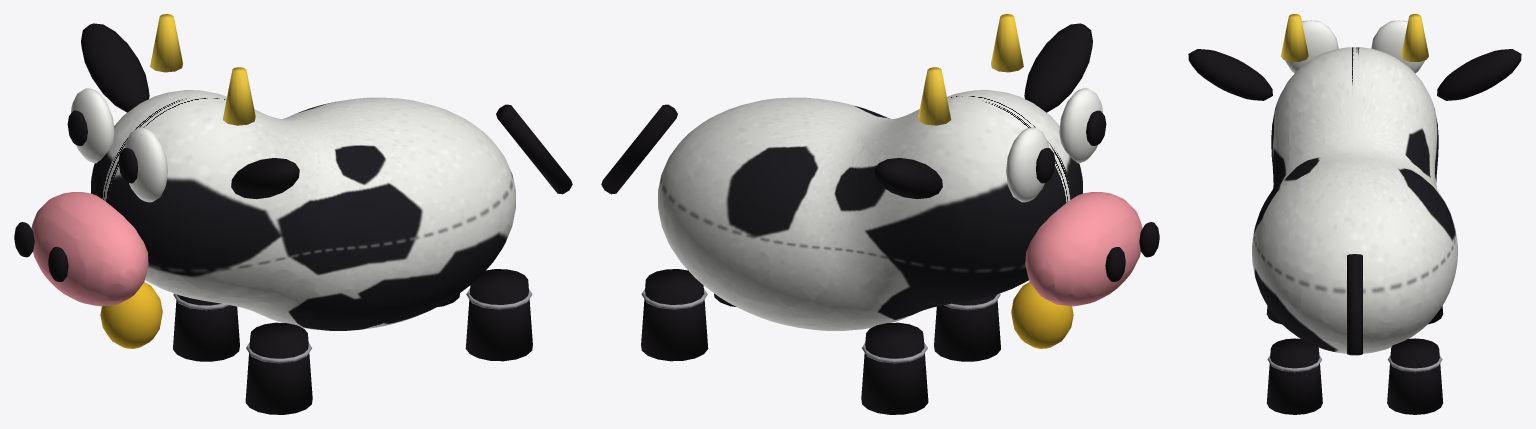
File: plush_cow.glb
3 views of the same model, side by side, from view 1: azimuth 30°, elevation 25°; view 2: azimuth 150°, elevation 25°; view 3: azimuth 270°, elevation 25° (orthographic). The views are drawn at different scales.
Parts seen in each view (by area): view 1: PLUSH_cow; view 2: PLUSH_cow; view 3: PLUSH_cow.
Boxes of the visible parts, x1,y1,x2,y2 form: PLUSH_cow: [14, 14, 572, 414]; PLUSH_cow: [601, 14, 1159, 414]; PLUSH_cow: [1188, 14, 1521, 414].
Bounding box in the file's own units: 0.2562 × 0.155 × 0.1661.
7 materials, 1 textured.
